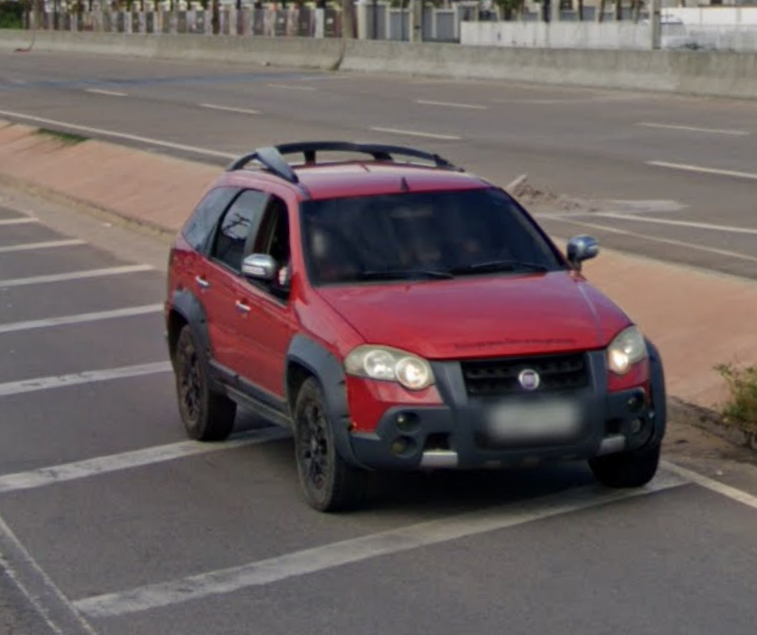car: (160, 137, 669, 514)
